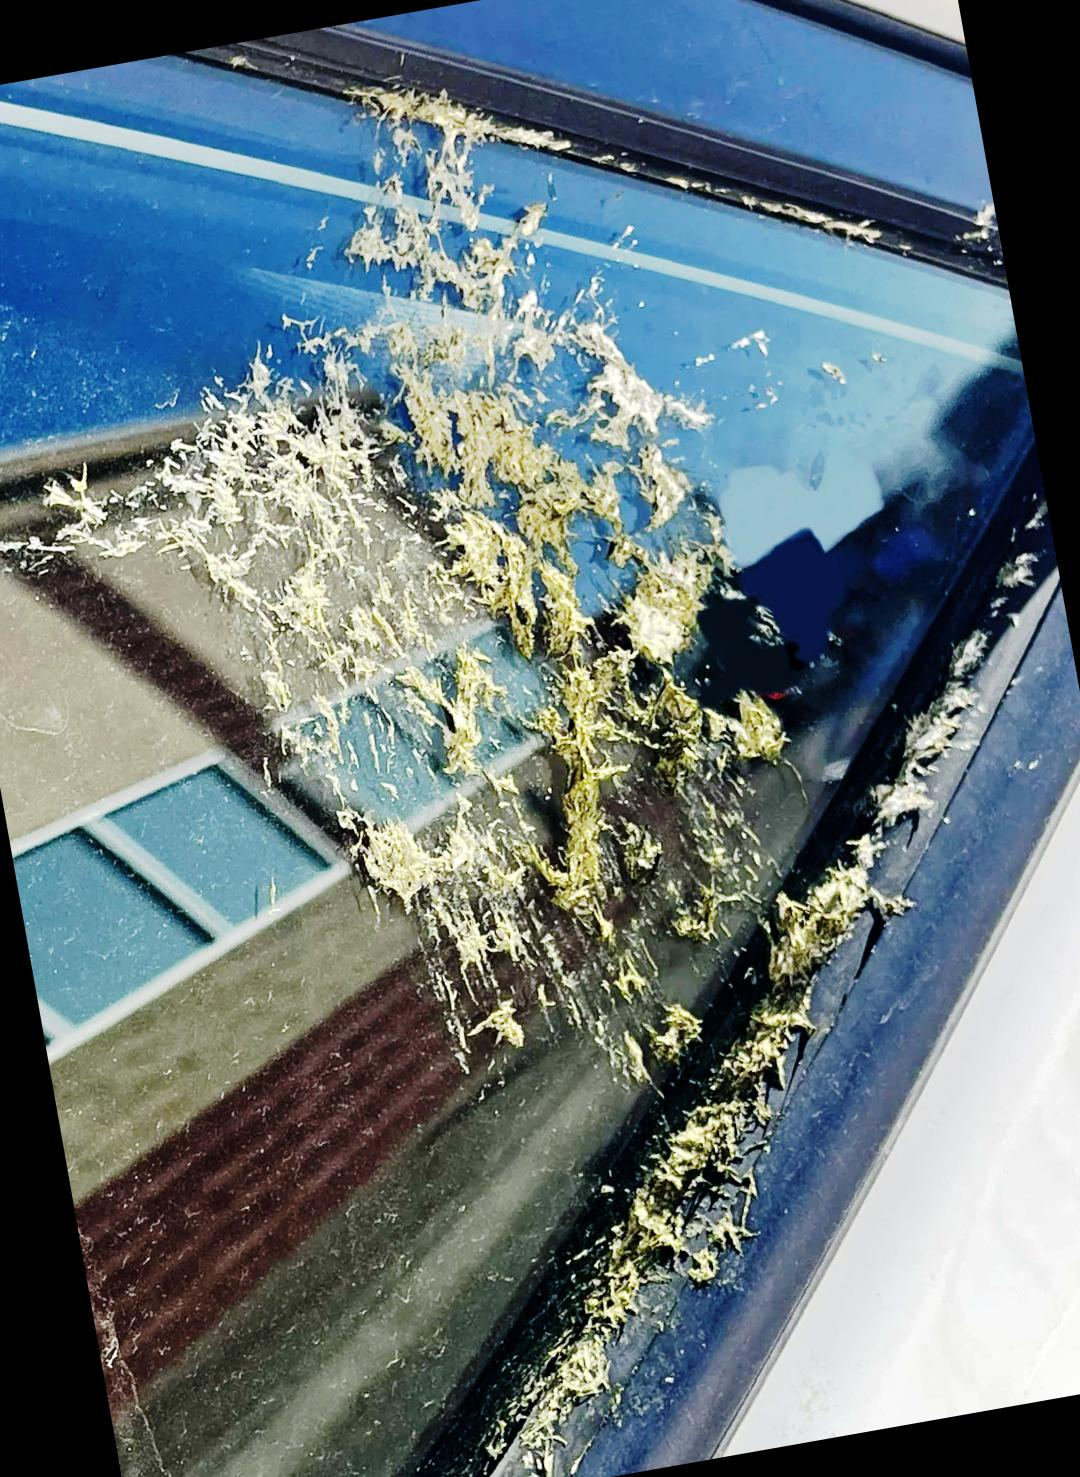Bird Poop: (48, 89, 790, 1079), (522, 638, 981, 1474)
